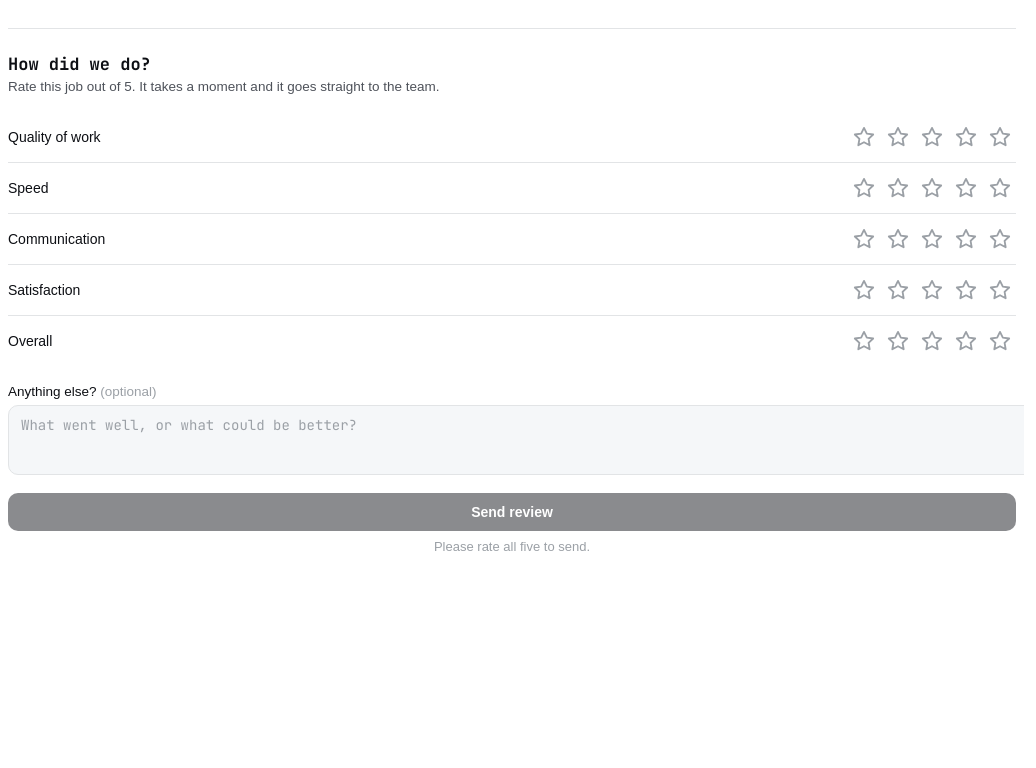
Test: ReviewForm › shows the failure on the form, since no toast reaches this page
Expected: the button "Send review" is shown, [8,493,1016,531]
What coordinates should you click on to do the following:
click the radio button named "4 out of 5" in the row of "Quality of work"
I would click on:
 (966, 137)
Its box is [950,121,982,153].
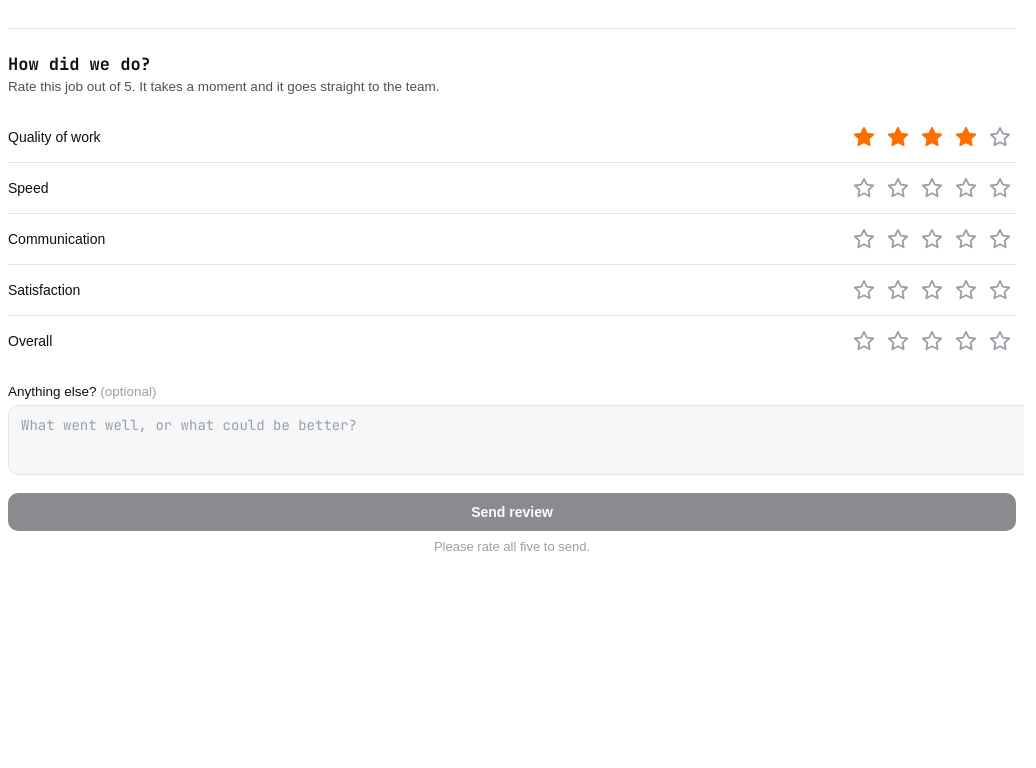
What coordinates should you click on to do the following:
click the radio button named "4 out of 5" in the row of "Speed"
I would click on:
 (966, 188)
Its box is [950,172,982,204].
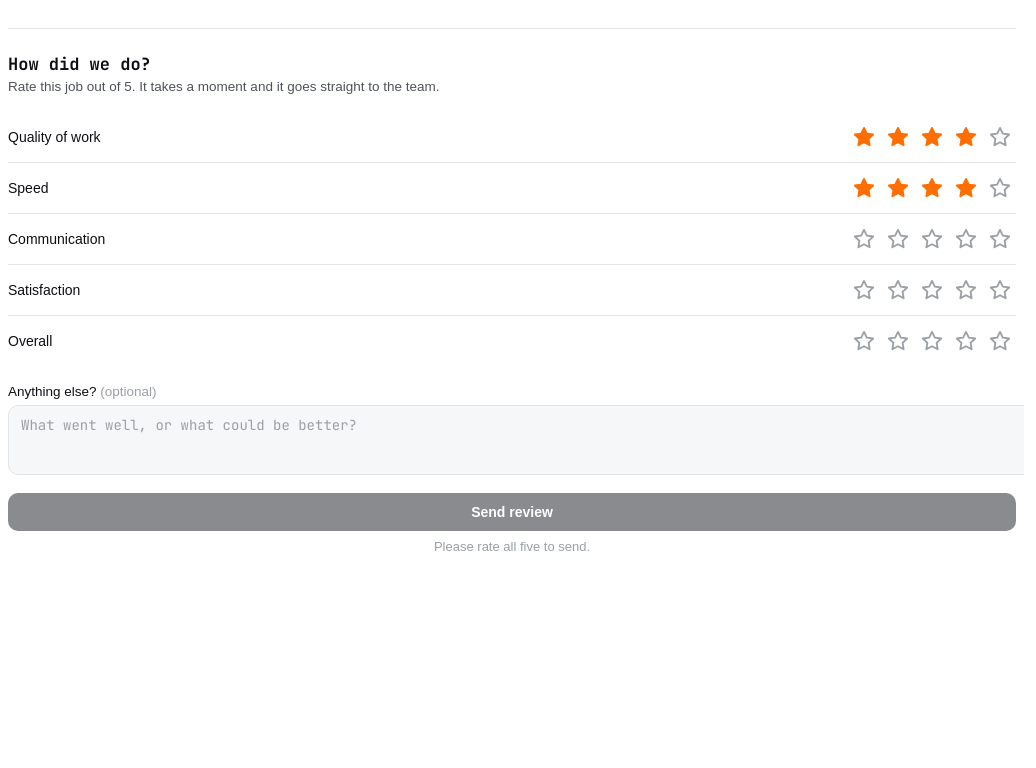
What coordinates should you click on to do the following:
click the radio button named "4 out of 5" in the row of "Communication"
I would click on:
 (966, 239)
Its box is [950,223,982,255].
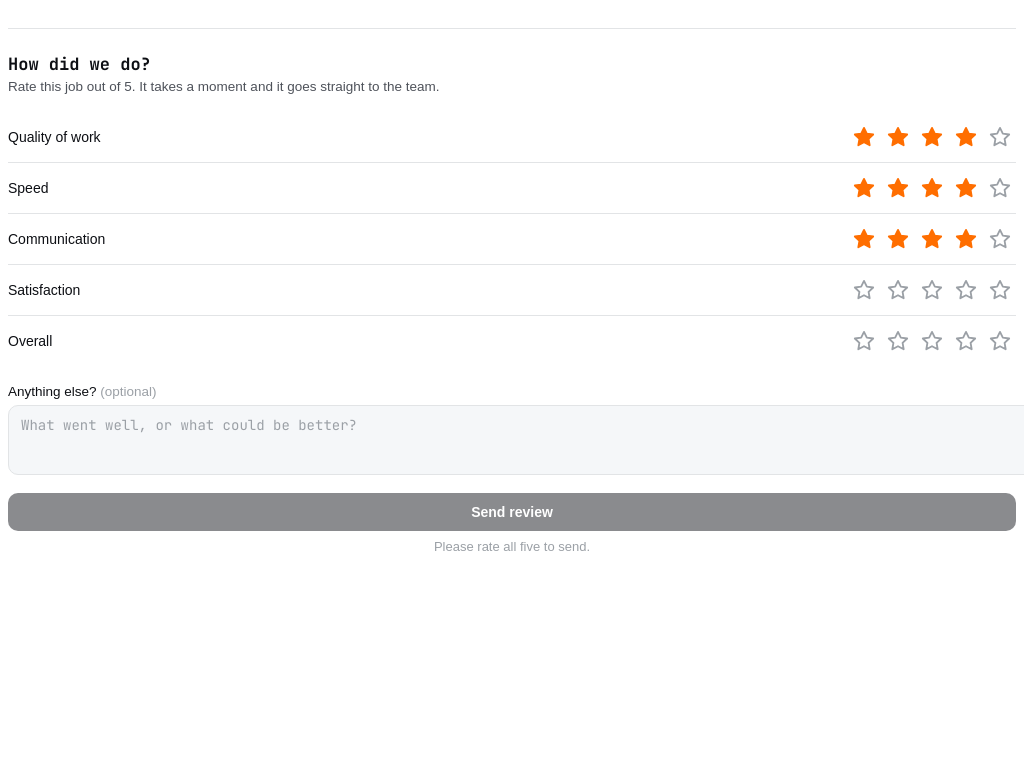
What coordinates should you click on to do the following:
click the radio button named "4 out of 5" in the row of "Satisfaction"
I would click on:
 (966, 290)
Its box is [950,274,982,306].
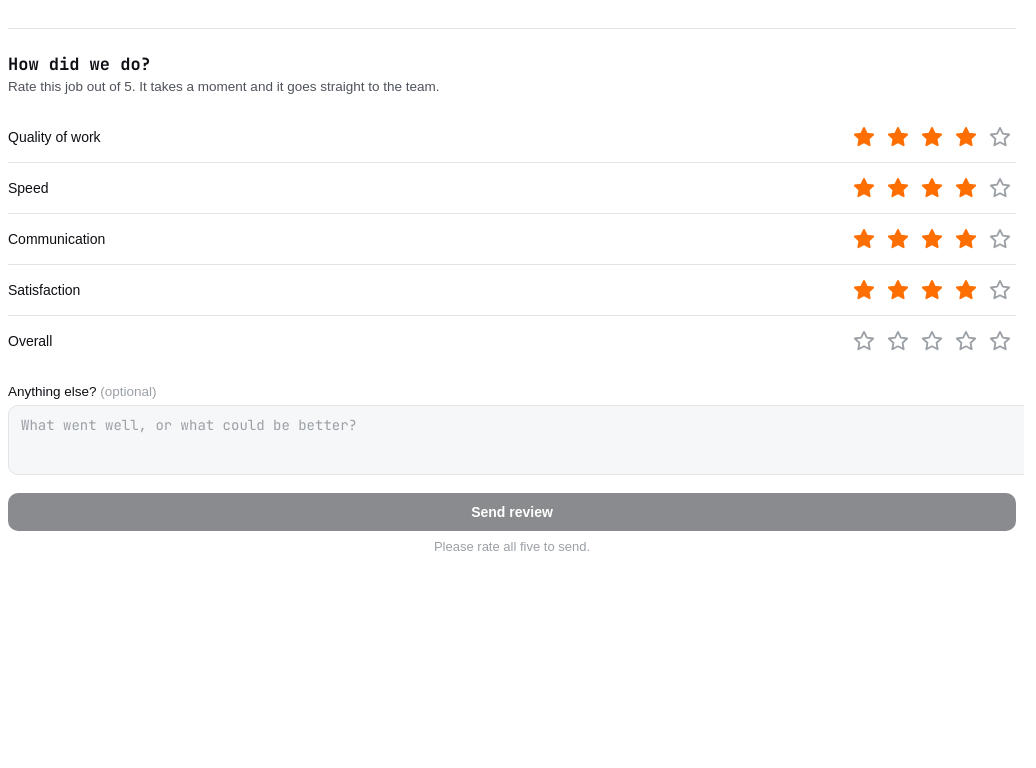
What coordinates should you click on to do the following:
click the radio button named "4 out of 5" in the row of "Overall"
I would click on:
 (966, 341)
Its box is [950,325,982,357].
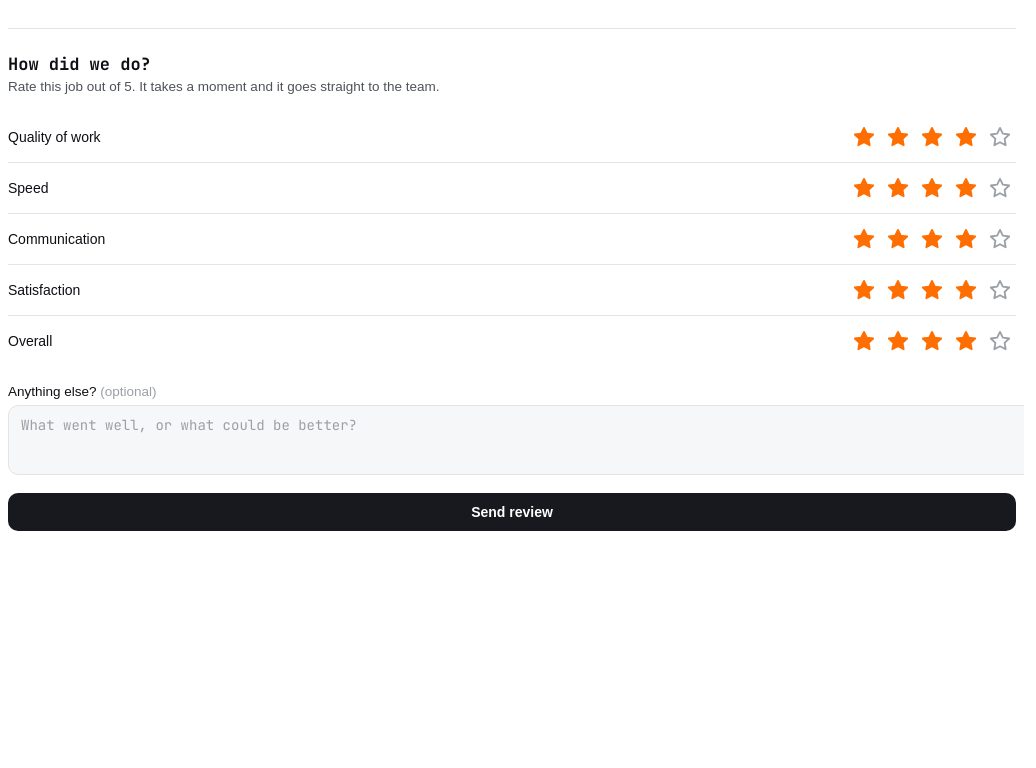
What coordinates should you click on to do the following:
click the button "Send review"
I would click on:
 (512, 512)
Its box is [8,493,1016,531].
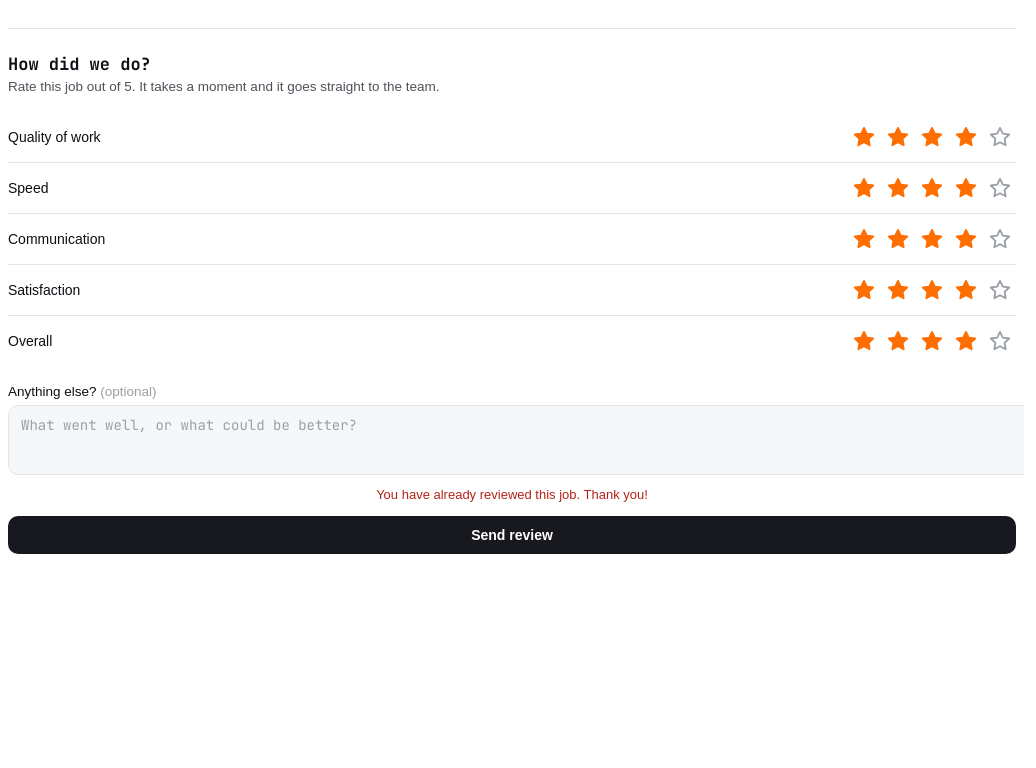
Result: the message shows "already reviewed" at [376,487,648,502]
